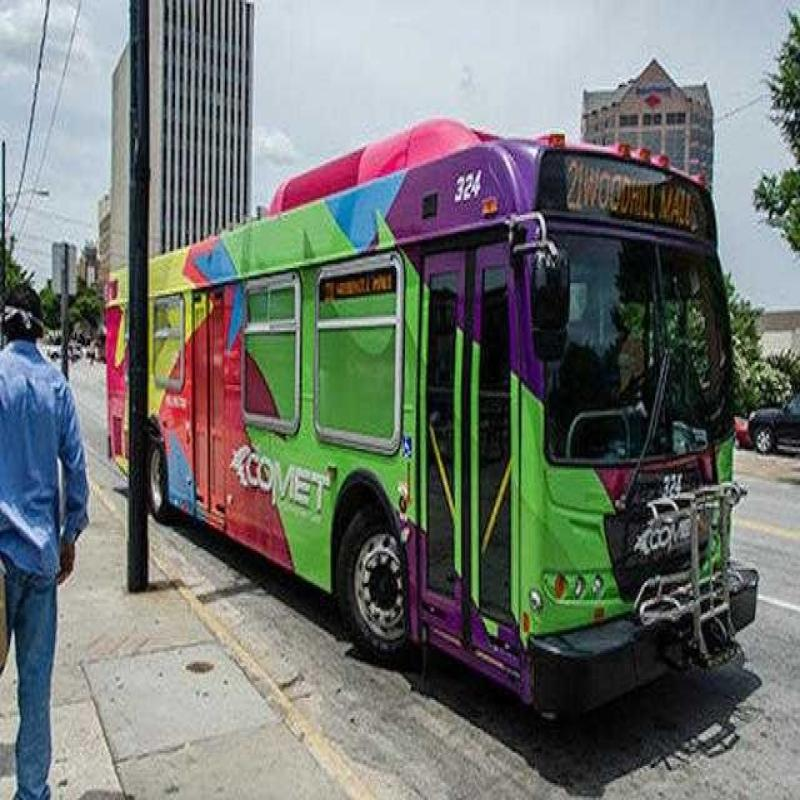bus: (75, 138, 753, 701)
